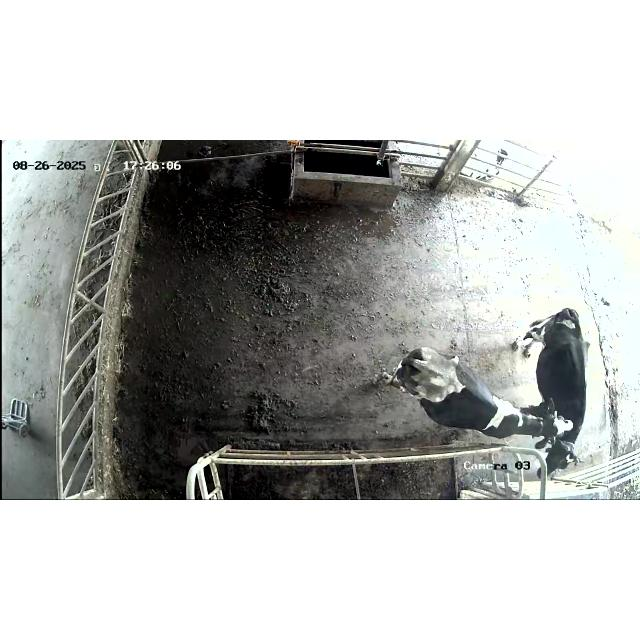stand: (382, 335, 572, 441), (528, 299, 588, 479)
